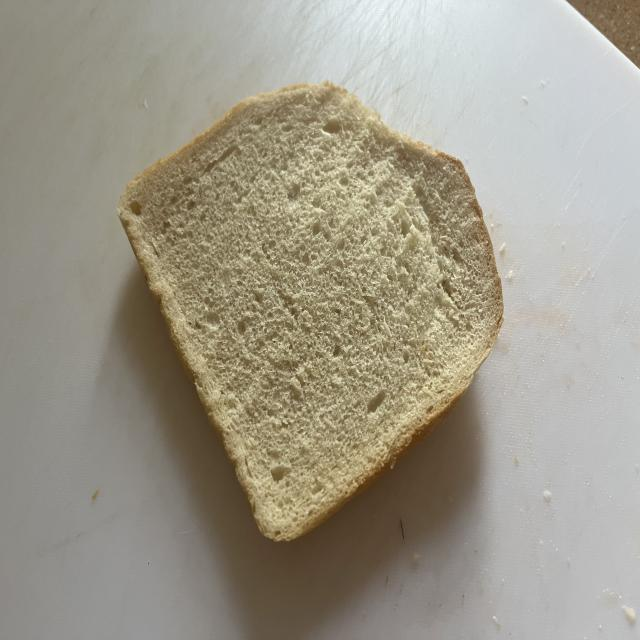sliced_bread: (118, 83, 503, 540)
